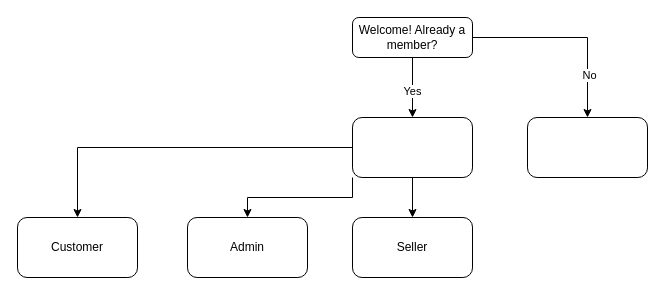
Image size: 665x295. Some labels were removed from this diagram. The shapes that lost their labels are listed below. From the top down, each one's centre as x and y in pixels, then its label:
(x=412, y=147): Authentication
(x=587, y=147): Register
